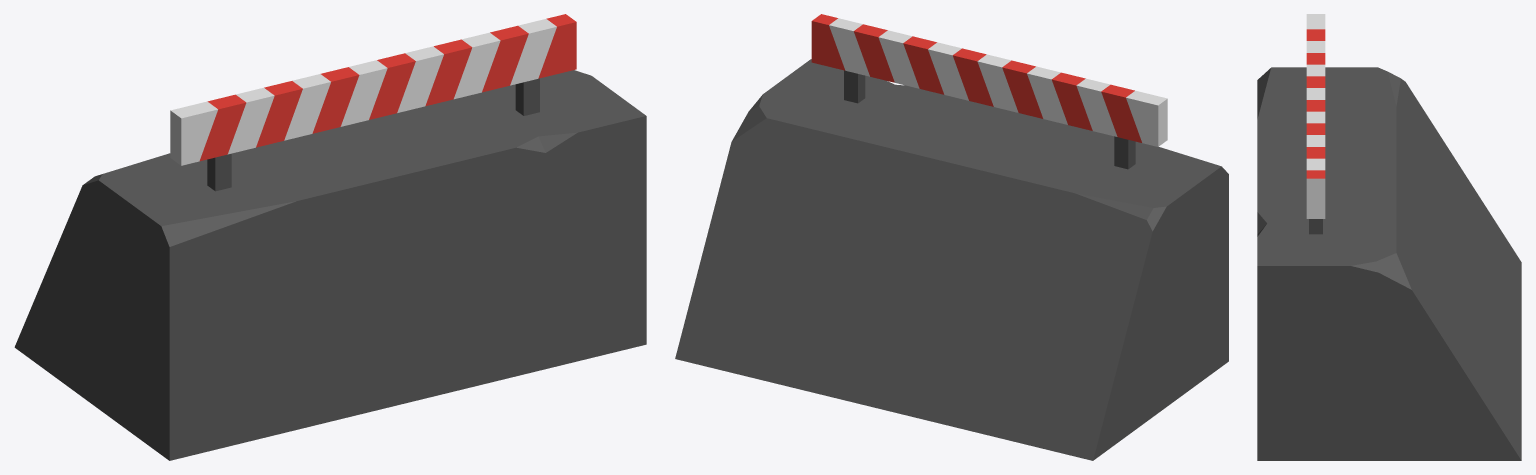
File: SM_Floor_RoadPart_07.fbx
3 views of the same model, side by side, from view 1: azimuth 30°, elevation 25°; view 2: azimuth 150°, elevation 25°; view 3: azimuth 270°, elevation 25° (orthographic). The views are drawn at different scales.
Parts seen in each view (by area): view 1: SM_Floor_RoadPart_07; view 2: SM_Floor_RoadPart_07; view 3: SM_Floor_RoadPart_07.
Part boxes in pixels (left/top/right/bottom): SM_Floor_RoadPart_07: left=14, top=14, right=646, bottom=460; SM_Floor_RoadPart_07: left=675, top=14, right=1228, bottom=460; SM_Floor_RoadPart_07: left=1257, top=14, right=1521, bottom=460.
Size of the model in its own units: 2.74 by 1.71 by 1.54.
